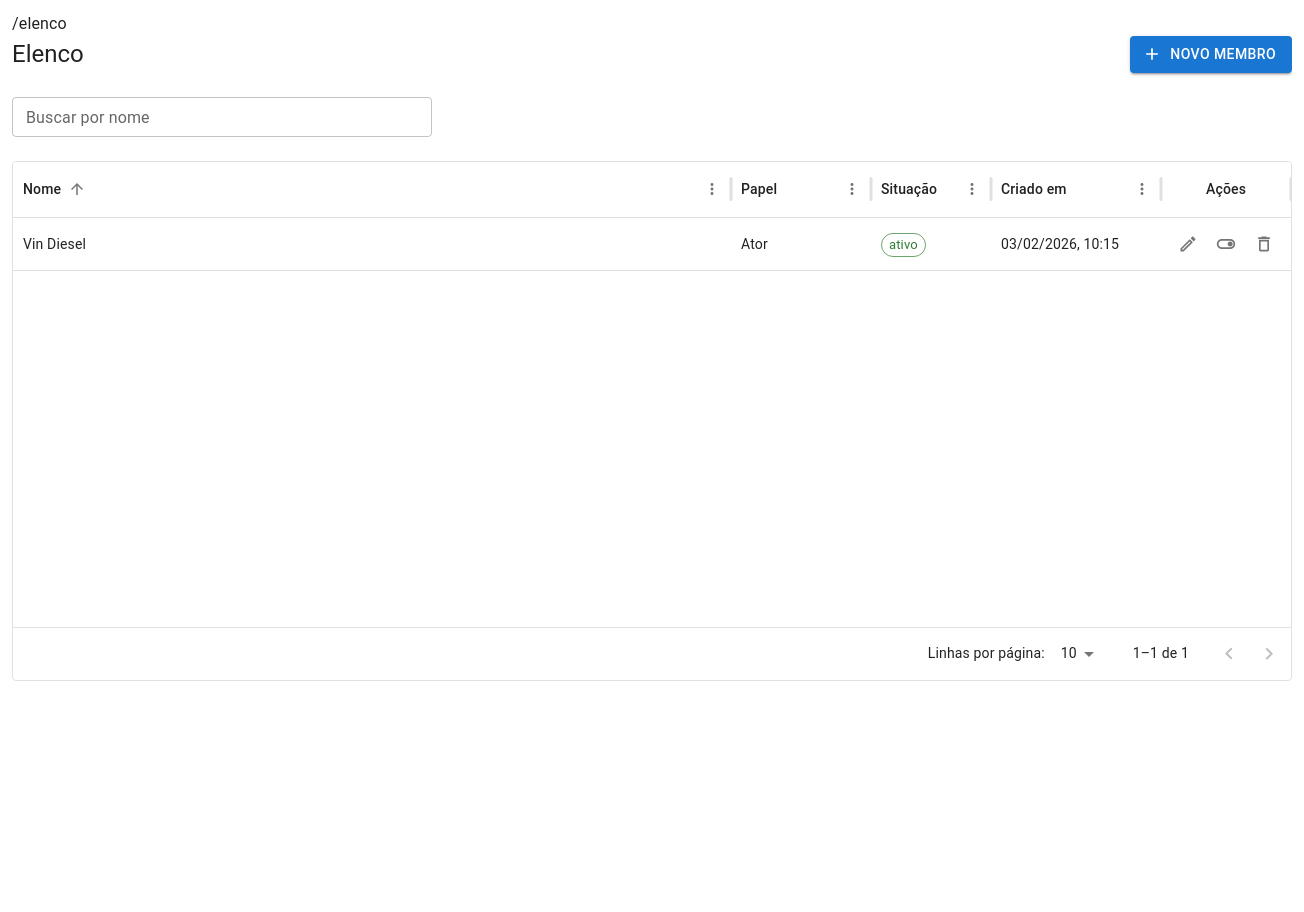
Scenario: CastMemberList › givenMembroAtivo_whenClicaEmDesativar_thenChamaDeactivate
Expected: the text "Vin Diesel" is shown, [23,236,86,252]
Click the menu item named "Desativar" at (1226, 244), box [1211,229,1241,259]
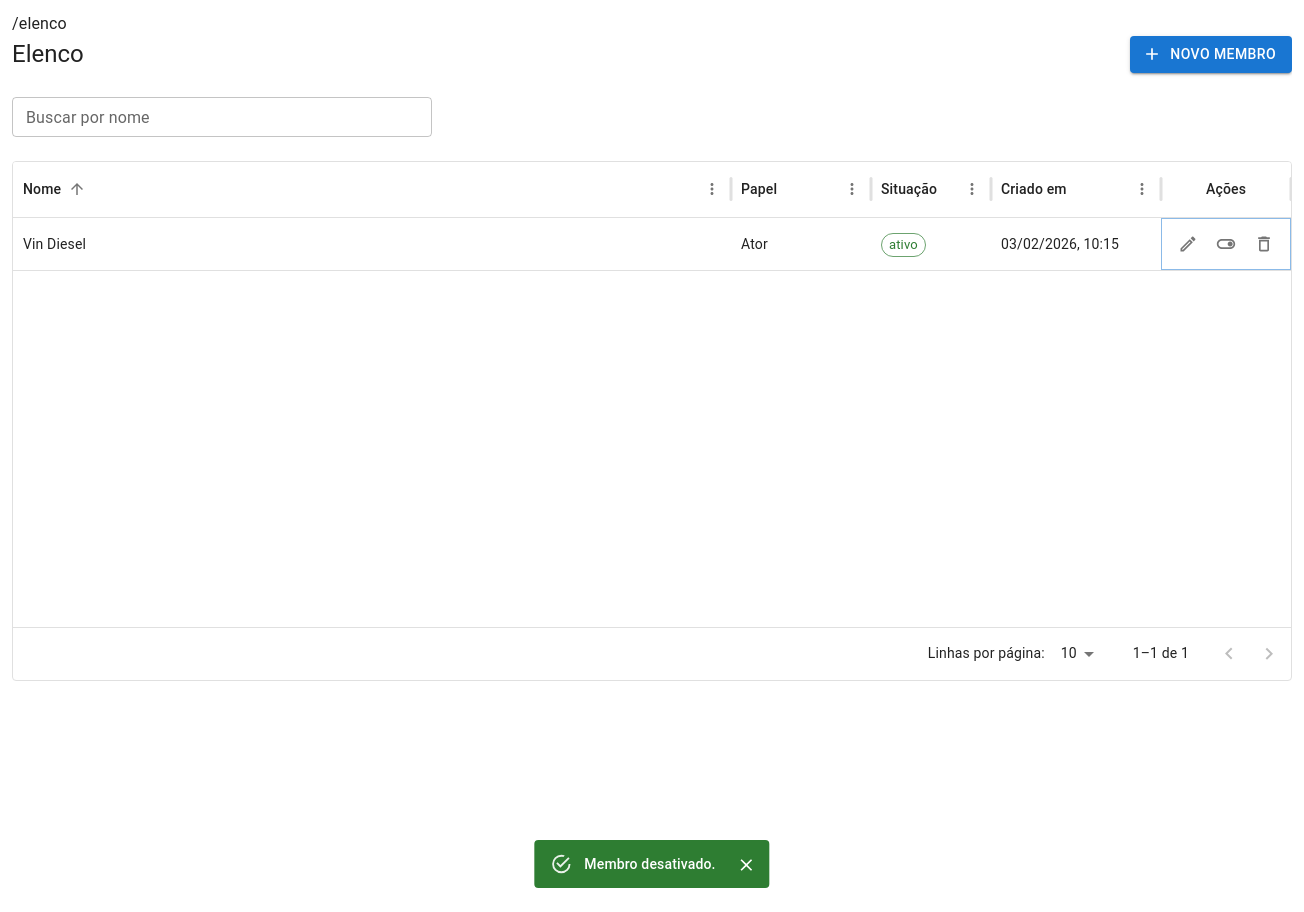
Result: the text "Membro desativado." is shown at [584,856,716,872]
